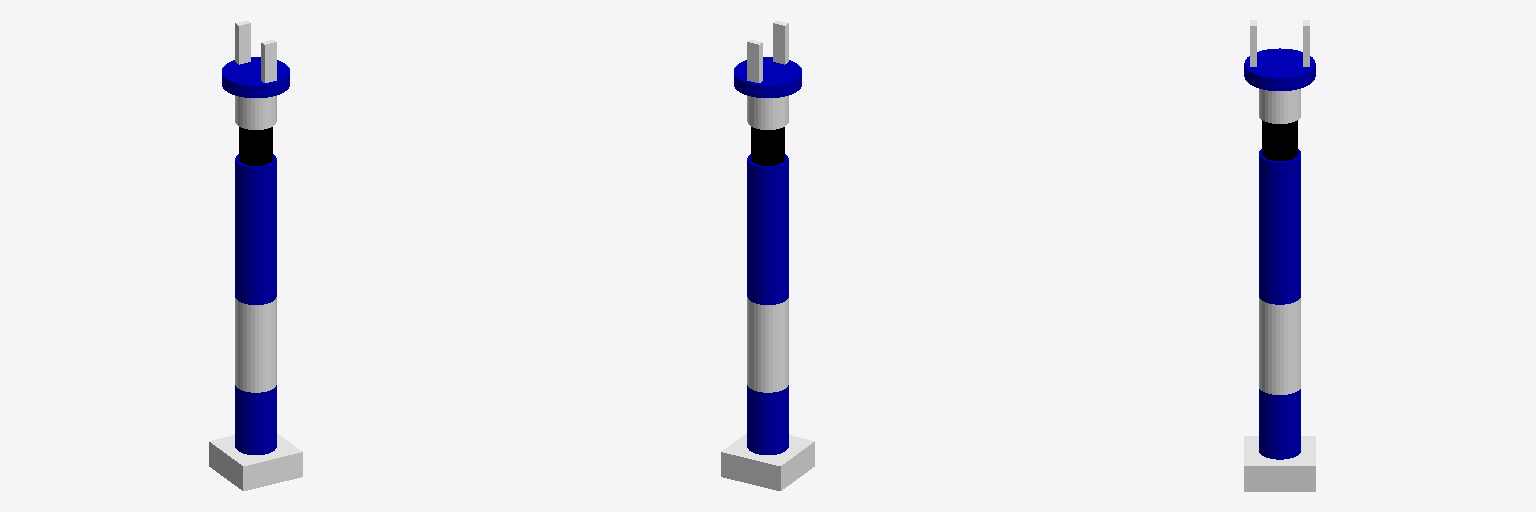
robot.urdf — six_arm:
<?xml version="1.0" ?>
<!-- =================================================================================== -->
<!-- |    This document was autogenerated by xacro from /mnt/e/workspace/AIC/src/yzbot/mybot_description/urdf/arm.xacro | -->
<!-- |    EDITING THIS FILE BY HAND IS NOT RECOMMENDED                                 | -->
<!-- =================================================================================== -->
<robot name="six_arm">
  <!-- 定义一些颜色 -->
  <material name="Blue">
    <color rgba="0 0 0.8 1"/>
  </material>
  <material name="Black">
    <color rgba="0 0 0 0.85"/>
  </material>
  <material name="White">
    <color rgba="1 1 1 1"/>
  </material>
  <!-- 惯性矩阵 -->
  <!-- <xacro:macro name="inertial_matrix" params="m">
        <inertial>
            <mass value="${m}" />
            <inertia ixx="0.0001" ixy="0" ixz="0" iyy="0.0001" iyz="0" izz="0.0001" />
        </inertial>
    </xacro:macro> -->
  <!-- 底座 -->
  <link name="arm_base_link">
    <visual>
      <origin rpy="0 0 0" xyz="0 0 0"/>
      <geometry>
        <box size="0.1 0.1 0.04"/>
      </geometry>
      <material name="White"/>
    </visual>
    <collision>
      <geometry>
        <box size="0.1 0.1 0.04"/>
      </geometry>
    </collision>
    <inertial>
      <origin rpy="1.5707963267948966 0 1.5707963267948966" xyz="0 0 0"/>
      <mass value="0.24000000000000002"/>
      <inertia ixx="0.00023200000000000006" ixy="0.0" ixz="0.0" iyy="0.0004000000000000001" iyz="0.0" izz="0.00023200000000000006"/>
    </inertial>
  </link>
  <!-- joint1 -->
  <joint name="joint1" type="revolute">
    <parent link="arm_base_link"/>
    <child link="link1"/>
    <origin rpy="0 0 0" xyz="0 0 0.07"/>
    <axis xyz="0 0 1"/>
    <limit effort="300" lower="-3.14" upper="3.14" velocity="2.0"/>
    <joint_properties damping="50" friction="1"/>
  </joint>
  <!-- link1 -->
  <link name="link1">
    <visual>
      <geometry>
        <cylinder length="0.1" radius="0.03"/>
      </geometry>
      <material name="Blue"/>
    </visual>
    <collision>
      <geometry>
        <cylinder length="0.1" radius="0.03"/>
      </geometry>
    </collision>
    <inertial>
      <!-- Arm cylinders extend along Z; COM must match the visual/collision. -->
      <origin rpy="0 0 0" xyz="0 0 0"/>
      <mass value="0.16964600329384882"/>
      <inertia ixx="0.0001795420201526567" ixy="0" ixz="0" iyy="0.0001795420201526567" iyz="0" izz="7.634070148223197e-05"/>
    </inertial>
  </link>
  <!-- link2 -->
  <link name="link2">
    <visual>
      <origin rpy="0 0 0" xyz="0 0 0.07"/>
      <geometry>
        <cylinder length="0.14" radius="0.03"/>
      </geometry>
      <material name="White"/>
    </visual>
    <collision>
      <origin rpy="0 0 0" xyz="0 0 0.07"/>
      <geometry>
        <cylinder length="0.14" radius="0.03"/>
      </geometry>
    </collision>
    <inertial>
      <!-- Arm cylinders extend along Z; COM must match the visual/collision. -->
      <origin rpy="0 0 0" xyz="0 0 0.07"/>
      <mass value="0.2375044046113884"/>
      <inertia ixx="0.00044136235190283017" ixy="0" ixz="0" iyy="0.00044136235190283017" iyz="0" izz="0.00010687698207512477"/>
    </inertial>
  </link>
  <!-- joint2 -->
  <joint name="joint2" type="revolute">
    <parent link="link1"/>
    <child link="link2"/>
    <origin rpy="0 0 0" xyz="0 0 0.05"/>
    <axis xyz="0 1 0"/>
    <limit effort="300" lower="-2.35" upper="2.35" velocity="2.0"/>
    <joint_properties damping="50" friction="1"/>
  </joint>
  <!-- link3 -->
  <link name="link3">
    <visual>
      <origin rpy="0 0 0" xyz="0 0 0.11"/>
      <geometry>
        <cylinder length="0.22" radius="0.03"/>
      </geometry>
      <material name="Blue"/>
    </visual>
    <collision>
      <origin rpy="0 0 0" xyz="0 0 0.11"/>
      <geometry>
        <cylinder length="0.22" radius="0.03"/>
      </geometry>
    </collision>
    <inertial>
      <!-- Arm cylinders extend along Z; COM must match the visual/collision. -->
      <origin rpy="0 0 0" xyz="0 0 0.11"/>
      <mass value="0.3732212072464674"/>
      <inertia ixx="0.0015893003075245404" ixy="0" ixz="0" iyy="0.0015893003075245404" iyz="0" izz="0.00016794954326091032"/>
    </inertial>
  </link>
  <!-- joint3 -->
  <joint name="joint3" type="revolute">
    <parent link="link2"/>
    <child link="link3"/>
    <origin rpy="0 0 0" xyz="0 0 0.14"/>
    <axis xyz="0 1 0"/>
    <limit effort="300" lower="-2.62" upper="2.62" velocity="2.0"/>
    <joint_properties damping="50" friction="1"/>
  </joint>
  <!-- link4 -->
  <link name="link4">
    <visual>
      <origin rpy="0 0 0" xyz="0 0 0.03"/>
      <geometry>
        <cylinder length="0.06" radius="0.025"/>
      </geometry>
      <material name="Black"/>
    </visual>
    <collision>
      <origin rpy="0 0 0" xyz="0 0 0.03"/>
      <geometry>
        <cylinder length="0.06" radius="0.025"/>
      </geometry>
    </collision>
    <inertial>
      <!-- Arm cylinders extend along Z; COM must match the visual/collision. -->
      <origin rpy="0 0 0" xyz="0 0 0.03"/>
      <mass value="0.07068583470577035"/>
      <inertia ixx="3.225041208450773e-05" ixy="0" ixz="0" iyy="3.225041208450773e-05" iyz="0" izz="2.208932334555324e-05"/>
    </inertial>
  </link>
  <!-- joint4 -->
  <joint name="joint4" type="revolute">
    <parent link="link3"/>
    <child link="link4"/>
    <origin rpy="0 0 0" xyz="0 0 0.22"/>
    <axis xyz="0 0 1"/>
    <limit effort="300" lower="-3.14" upper="3.14" velocity="2.0"/>
    <joint_properties damping="50" friction="1"/>
  </joint>
  <!-- link5 -->
  <link name="link5">
    <visual>
      <origin rpy="0 0 0" xyz="0 0 0.03"/>
      <geometry>
        <cylinder length="0.06" radius="0.03"/>
      </geometry>
      <material name="White"/>
    </visual>
    <collision>
      <origin rpy="0 0 0" xyz="0 0 0.03"/>
      <geometry>
        <cylinder length="0.06" radius="0.03"/>
      </geometry>
    </collision>
    <inertial>
      <!-- Arm cylinders extend along Z; COM must match the visual/collision. -->
      <origin rpy="0 0 0" xyz="0 0 0.03"/>
      <mass value="0.10178760197630929"/>
      <inertia ixx="5.3438491037562376e-05" ixy="0" ixz="0" iyy="5.3438491037562376e-05" iyz="0" izz="4.580442088933918e-05"/>
    </inertial>
  </link>
  <!-- joint5 -->
  <joint name="joint5" type="revolute">
    <parent link="link4"/>
    <child link="link5"/>
    <origin rpy="0 0 0" xyz="0 0 0.06"/>
    <axis xyz="0 -1 0"/>
    <limit effort="300" lower="-2.04" upper="2.04" velocity="2.0"/>
    <joint_properties damping="50" friction="1"/>
  </joint>
  <!-- link6 -->
  <link name="link6">
    <visual>
      <origin rpy="0 0 0" xyz="0 0 0.01"/>
      <geometry>
        <cylinder length="0.02" radius="0.05"/>
      </geometry>
      <material name="Blue"/>
    </visual>
    <collision>
      <origin rpy="0 0 0" xyz="0 0 0.01"/>
      <geometry>
        <cylinder length="0.02" radius="0.05"/>
      </geometry>
    </collision>
    <inertial>
      <!-- Arm cylinders extend along Z; COM must match the visual/collision. -->
      <origin rpy="0 0 0" xyz="0 0 0.01"/>
      <mass value="0.09424777960769382"/>
      <inertia ixx="6.204645490839843e-05" ixy="0" ixz="0" iyy="6.204645490839843e-05" iyz="0" izz="0.0001178097245096173"/>
    </inertial>
  </link>
  <!-- joint6 -->
  <joint name="joint6" type="revolute">
    <parent link="link5"/>
    <child link="link6"/>
    <origin rpy="0 0 0" xyz="0 0 0.06"/>
    <axis xyz="0 0 1"/>
    <limit effort="300" lower="-3.14" upper="3.14" velocity="2.0"/>
    <joint_properties damping="50" friction="1"/>
  </joint>
  <link name="gripper_finger_link1">
    <visual>
      <geometry>
        <box size="0.08 0.01 0.02"/>
      </geometry>
      <material name="White"/>
    </visual>
    <collision>
      <geometry>
        <box size="0.08 0.01 0.02"/>
      </geometry>
    </collision>
    <inertial>
      <origin rpy="1.5707963267948966 0 1.5707963267948966" xyz="0 0 0"/>
      <mass value="0.009600000000000001"/>
      <inertia ixx="5.4400000000000004e-06" ixy="0.0" ixz="0.0" iyy="5.200000000000001e-06" iyz="0.0" izz="4.0000000000000003e-07"/>
    </inertial>
  </link>
  <link name="gripper_finger_link2">
    <visual>
      <geometry>
        <box size="0.08 0.01 0.02"/>
      </geometry>
      <material name="White"/>
    </visual>
    <collision>
      <geometry>
        <box size="0.08 0.01 0.02"/>
      </geometry>
    </collision>
    <inertial>
      <origin rpy="1.5707963267948966 0 1.5707963267948966" xyz="0 0 0"/>
      <mass value="0.009600000000000001"/>
      <inertia ixx="5.4400000000000004e-06" ixy="0.0" ixz="0.0" iyy="5.200000000000001e-06" iyz="0.0" izz="4.0000000000000003e-07"/>
    </inertial>
  </link>
  <joint name="finger_joint1" type="prismatic">
    <parent link="link6"/>
    <child link="gripper_finger_link1"/>
    <origin rpy="0 1.5707963 0" xyz="0 -0.037500000000000006 0.042"/>
    <axis xyz="0 1 0"/>
    <limit effort="100" lower="0" upper="0.060000000000000005" velocity="2.0"/>
    <dynamics damping="50" friction="1"/>
  </joint>
  <joint name="finger_joint2" type="fixed">
    <parent link="link6"/>
    <child link="gripper_finger_link2"/>
    <origin rpy="0 1.5707963 0" xyz="0 0.037500000000000006 0.042"/>
  </joint>
  <!-- Grasping frame -->
  <link name="grasping_frame"/>
  <joint name="grasping_frame_joint" type="fixed">
    <parent link="link6"/>
    <child link="grasping_frame"/>
    <origin rpy="0 0 0" xyz="0 0 0"/>
  </joint>
</robot>

--- What the picture shows (computed from the rendered views, not written in the file) ---
The picture shows the robot from 3 angles, left to right: view 1: azimuth 30°, elevation 25°; view 2: azimuth 150°, elevation 25°; view 3: azimuth 270°, elevation 25°; orthographic projection.
Model six_arm with 10 links and 9 joints (6 revolute, 1 prismatic, 2 fixed), rooted at arm_base_link, posed all joints at 0.
Visible links, largest first — view 1: link3, link2, arm_base_link, link1, link6, link5, link4, gripper_finger_link2, gripper_finger_link1; view 2: link3, link2, arm_base_link, link1, link6, link5, link4, gripper_finger_link1, gripper_finger_link2; view 3: link3, link2, arm_base_link, link1, link6, link5, link4.
Link boxes in pixels (x1,y1,x2,y2): link3: (235,154,276,304); link2: (235,297,276,392); arm_base_link: (209,433,302,490); link1: (235,385,276,454); link6: (222,57,289,97); link5: (235,96,276,129); link4: (239,127,272,165); gripper_finger_link2: (235,21,250,64); gripper_finger_link1: (261,40,276,82); link3: (747,154,788,304); link2: (747,297,788,392); arm_base_link: (721,433,814,490); link1: (747,385,788,454); link6: (734,57,801,97); link5: (747,96,788,129); link4: (751,127,784,165); gripper_finger_link1: (773,21,788,64); gripper_finger_link2: (747,40,762,82); link3: (1259,149,1300,304); link2: (1259,298,1300,394); arm_base_link: (1244,436,1315,491); link1: (1259,389,1300,459); link6: (1244,48,1315,90); link5: (1259,89,1300,123); link4: (1262,120,1297,160).
Bounding box of the posed robot: 0.1 × 0.1 × 0.702 m (x, y, z).
Geometry: primitives only (box / cylinder / sphere), no mesh files.
